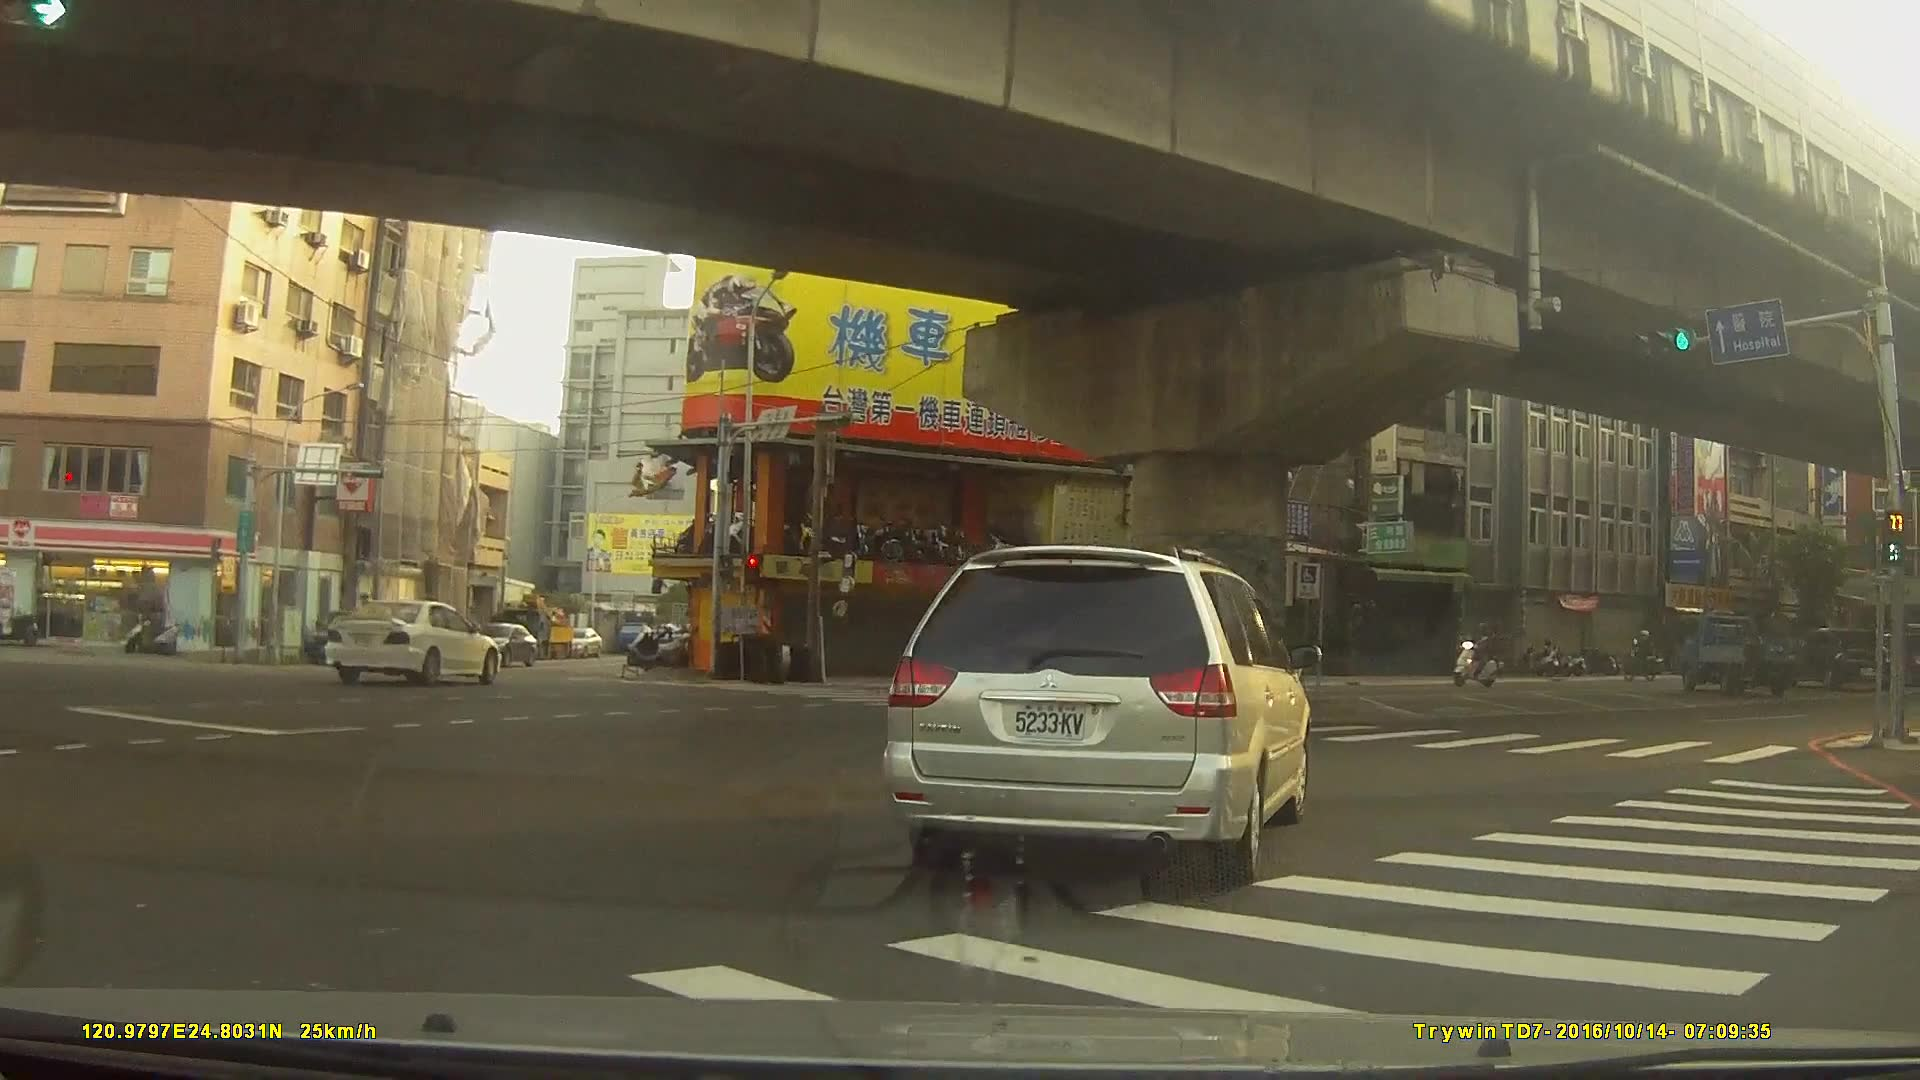rider: (1456, 629, 1503, 690), (1618, 629, 1666, 684)
vehicle: (882, 543, 1313, 884), (324, 598, 503, 684), (1674, 609, 1804, 694), (1784, 623, 1885, 688), (464, 619, 538, 666), (561, 626, 601, 657)
